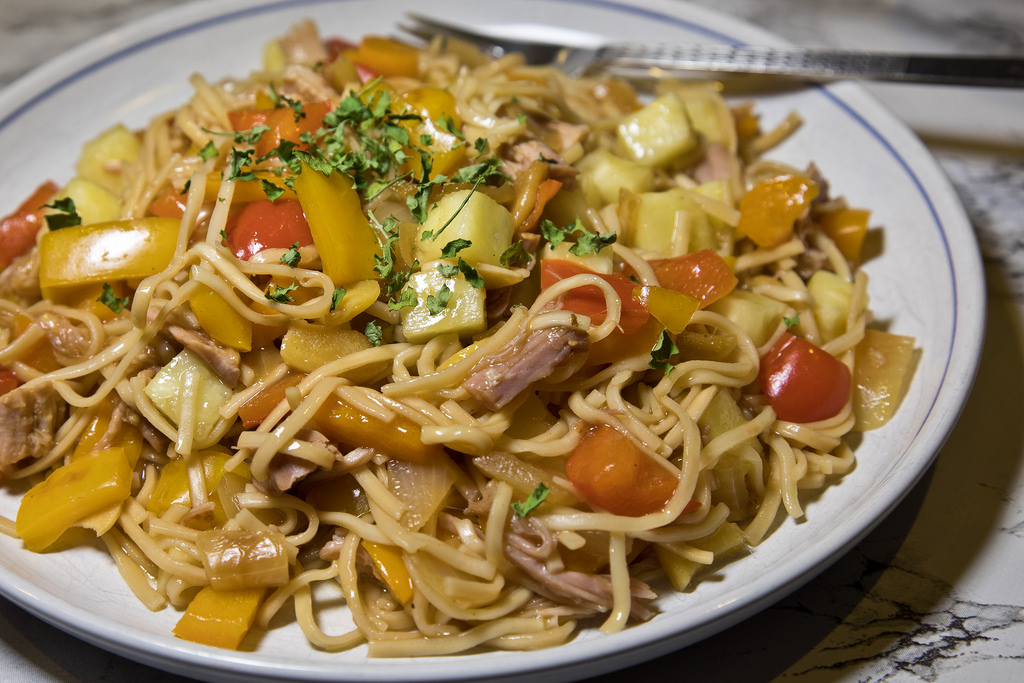plain spaghetti: (183, 266, 414, 343)
